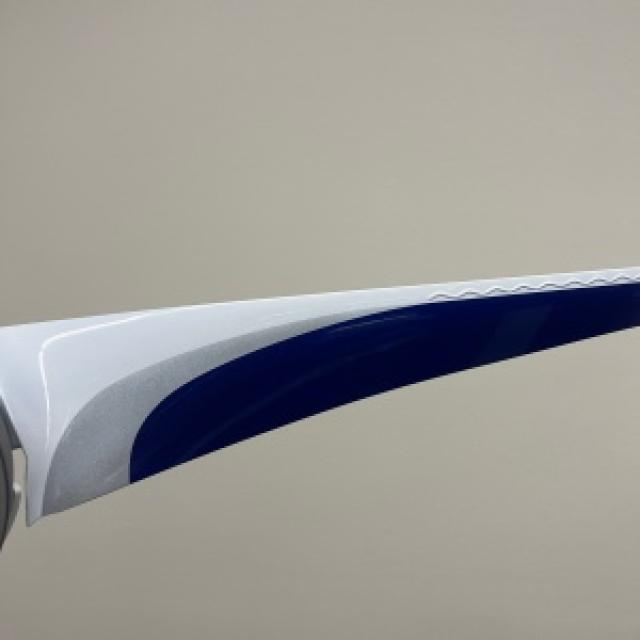healthy: (0, 267, 638, 523)
